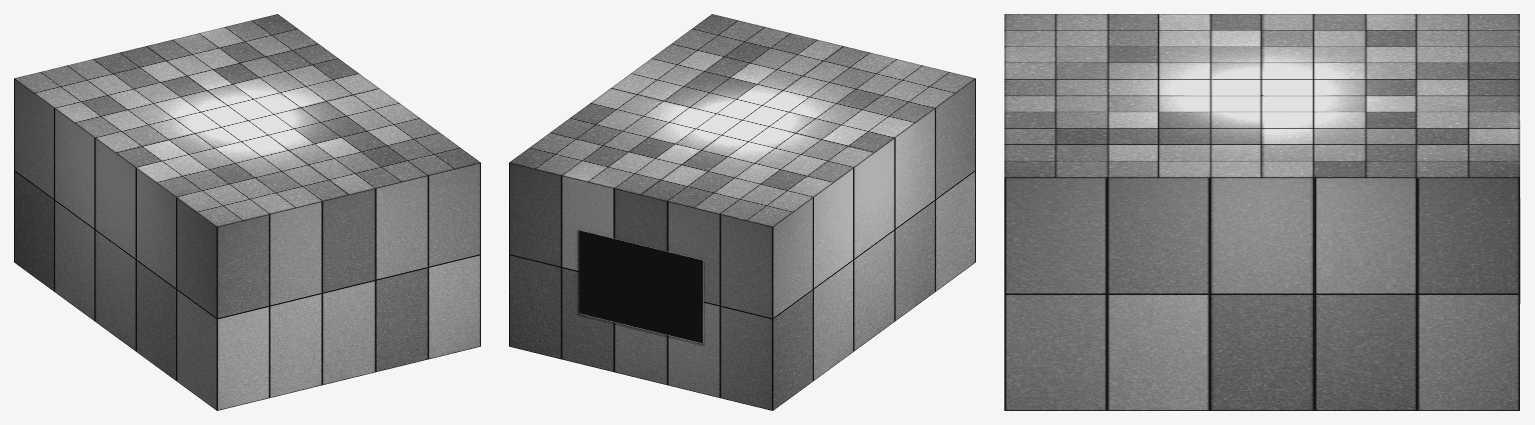
File: testroom.fbx
3 renders of one model, left to right at view 1: azimuth 30°, elevation 25°; view 2: azimuth 150°, elevation 25°; view 3: azimuth 270°, elevation 25°, orthographic. The views are drawn at different scales.
Visible parts, largest first — view 1: Cube; view 2: Cube; view 3: Cube.
Boxes of the visible parts, <box> form: Cube: <box>14,14,480,410</box>; Cube: <box>509,14,975,410</box>; Cube: <box>1004,14,1520,410</box>.
Bounding box in the file's own units: 300 × 200 × 400.
2 materials, 1 textured.
